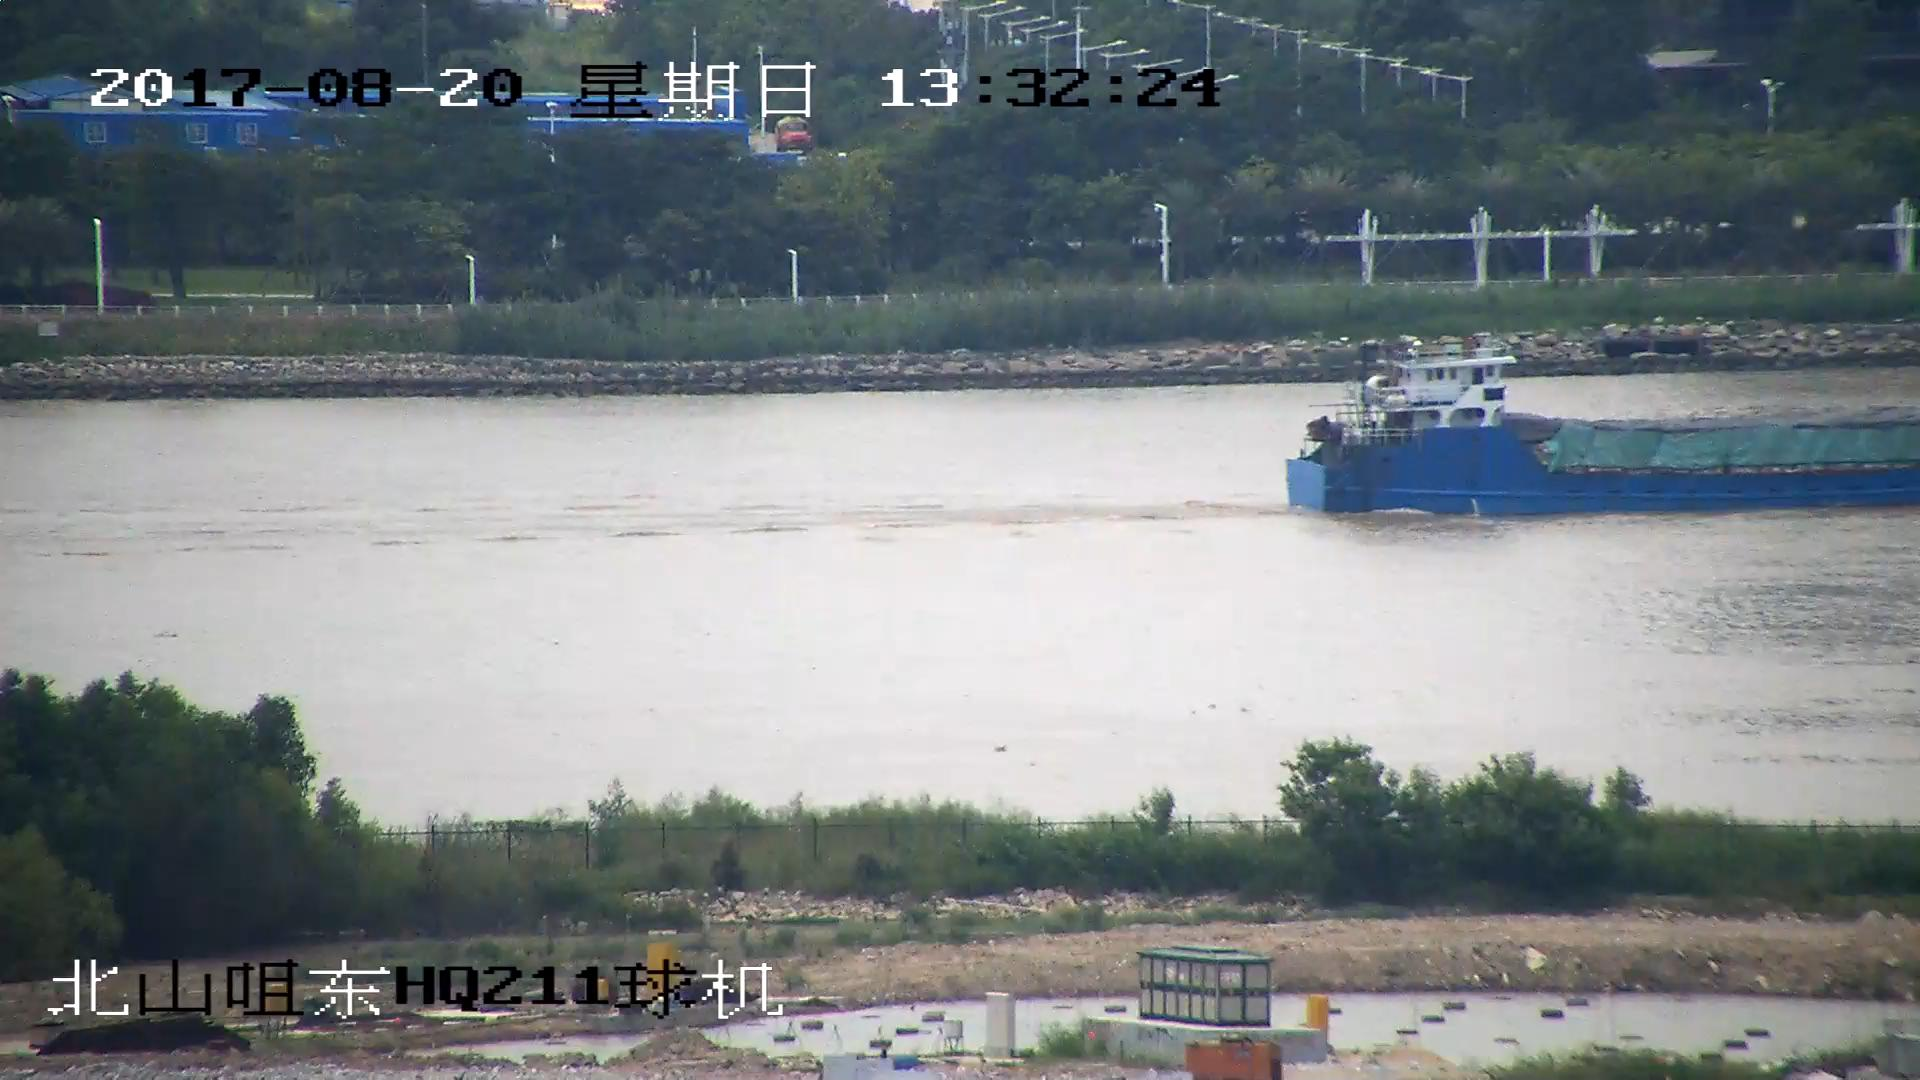general cargo ship: (1285, 340, 1920, 516)
